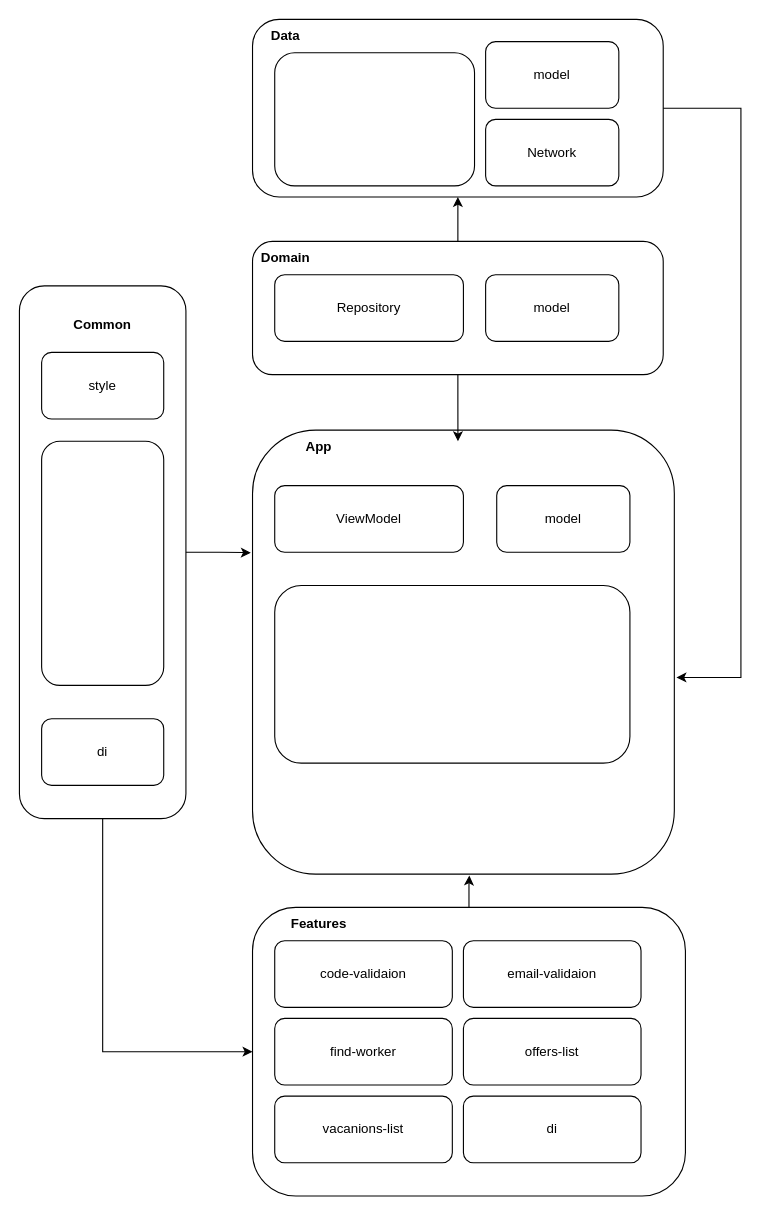
Image size: 769x1215. Some labels were removed from this diagram. Each missing label, with the centre of its shape:
adapter for recicleview: point (102, 562)
RepositoryIMPL: point (374, 119)
UI: point (452, 673)
